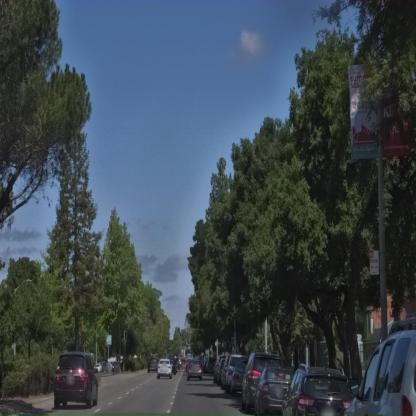car: (341, 326, 416, 416), (284, 366, 356, 416), (52, 349, 102, 409), (239, 353, 286, 412), (253, 362, 295, 416), (226, 355, 249, 396), (156, 361, 172, 380), (187, 363, 203, 382)
